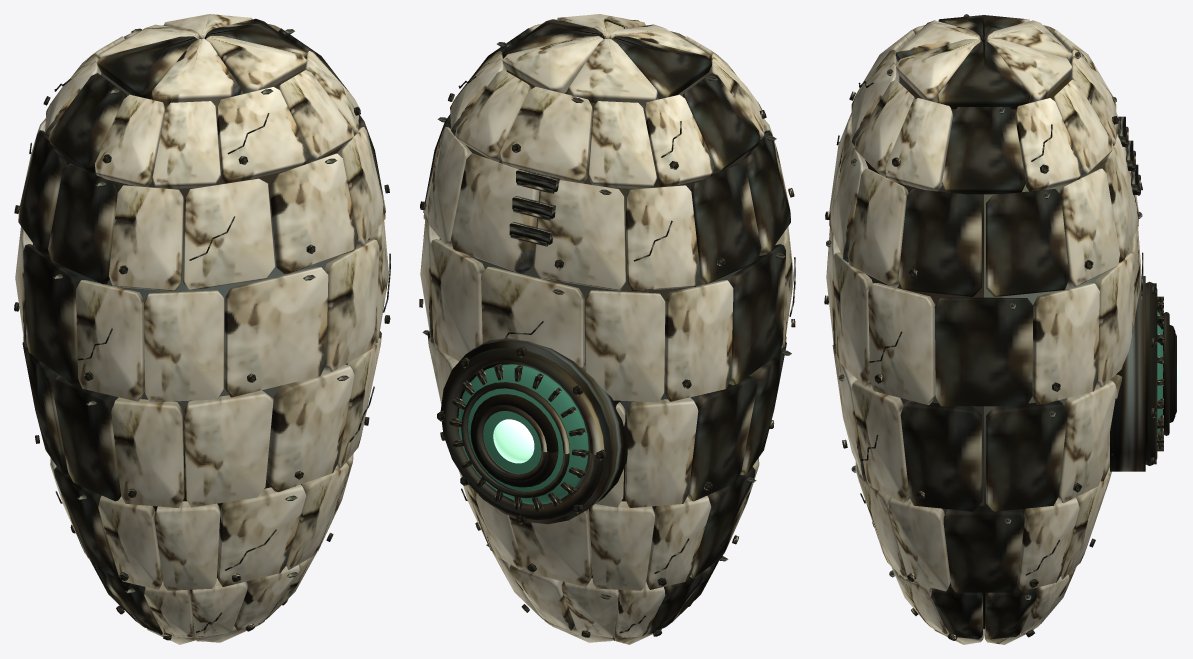
File: body-hecaton-v3.glb
The picture shows the model from 3 angles, left to right: view 1: azimuth 30°, elevation 25°; view 2: azimuth 150°, elevation 25°; view 3: azimuth 270°, elevation 25°; orthographic projection.
Visible parts, largest first — view 1: hecaton-ceramic, hecaton-brass, hecaton-steel; view 2: hecaton-ceramic, hecaton-brass, hecaton-steel, hecaton-glass, hecaton-light; view 3: hecaton-ceramic, hecaton-brass, hecaton-steel.
Part boxes in pixels (x1=…): hecaton-ceramic: x1=15, y1=14, x2=388, y2=644; hecaton-brass: x1=14, y1=18, x2=390, y2=640; hecaton-steel: x1=29, y1=28, x2=390, y2=632; hecaton-ceramic: x1=420, y1=14, x2=793, y2=644; hecaton-brass: x1=419, y1=19, x2=795, y2=637; hecaton-steel: x1=422, y1=20, x2=795, y2=633; hecaton-glass: x1=458, y1=364, x2=588, y2=504; hecaton-light: x1=493, y1=419, x2=534, y2=463; hecaton-ceramic: x1=826, y1=20, x2=1141, y2=644; hecaton-brass: x1=824, y1=15, x2=1176, y2=640; hecaton-steel: x1=826, y1=14, x2=1175, y2=628.
Size of the model in its own units: 0.892 by 1.56 by 0.8441.
Materials: 5 (3 with a texture image).
